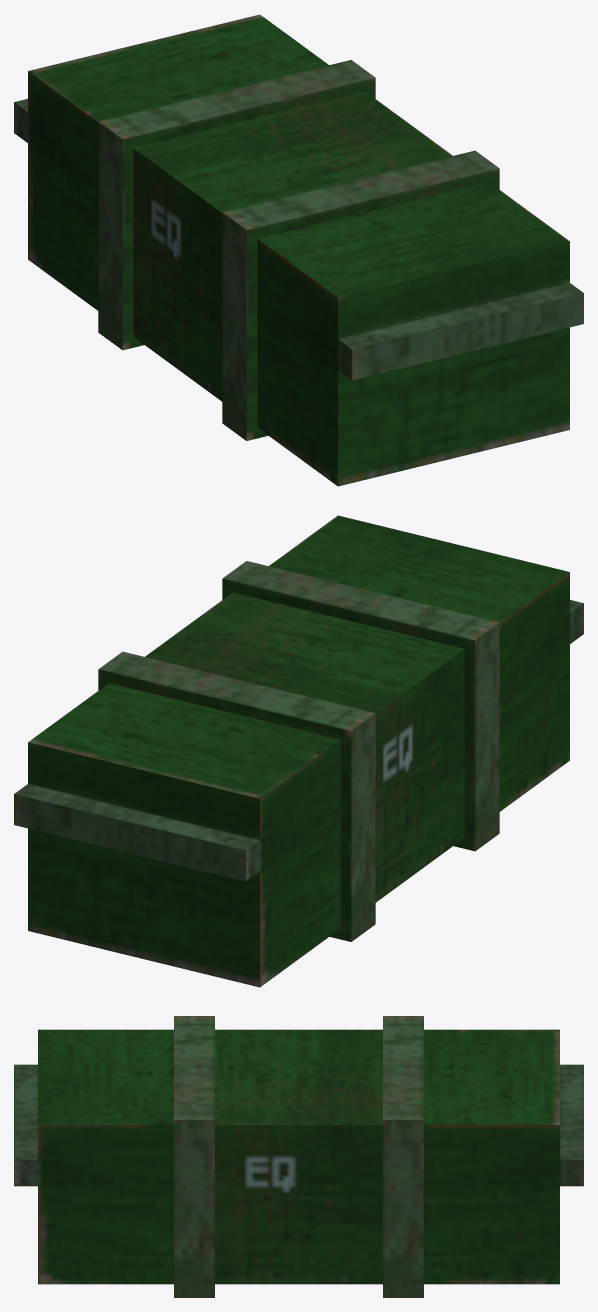
3 renders of one model, top to bottom at view 1: azimuth 30°, elevation 25°; view 2: azimuth 150°, elevation 25°; view 3: azimuth 270°, elevation 25°, orthographic. The views are drawn at different scales.
Visible parts, largest first — view 1: Box013; view 2: Box013; view 3: Box013.
Boxes of the visible parts, box(x1,y1,x2,y2) form: Box013: box(14, 14, 583, 486); Box013: box(14, 515, 583, 987); Box013: box(14, 1016, 583, 1297).
Size of the model in its own units: 0.599 by 0.4771 by 1.39.
1 material, 1 textured.
